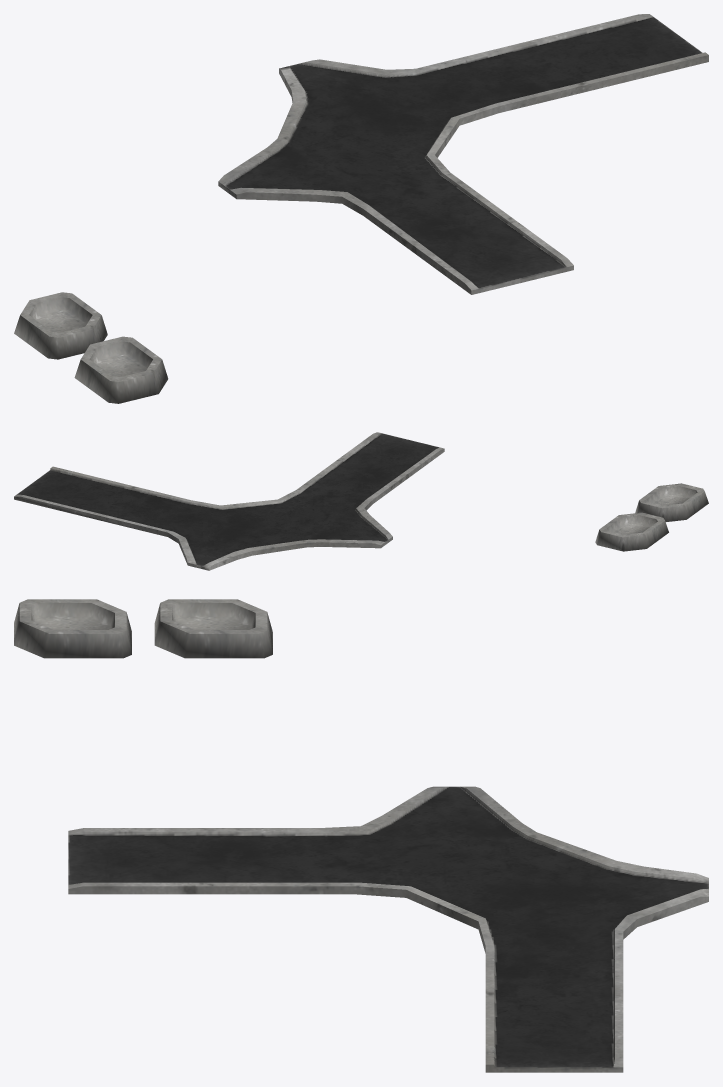
The model's file is ME_Detail_Research_Station.fbx.
3 renders of one model, top to bottom at view 1: azimuth 30°, elevation 25°; view 2: azimuth 150°, elevation 25°; view 3: azimuth 270°, elevation 25°, orthographic. The views are drawn at different scales.
Visible parts, largest first — view 1: ME_Detail_Research_Station; view 2: ME_Detail_Research_Station; view 3: ME_Detail_Research_Station.
Boxes of the visible parts, left/top/right/bottom form: ME_Detail_Research_Station: left=14, top=14, right=708, bottom=403; ME_Detail_Research_Station: left=14, top=432, right=708, bottom=570; ME_Detail_Research_Station: left=14, top=599, right=708, bottom=1072.
Bounding box in the file's own units: 366 × 8.37 × 237.
